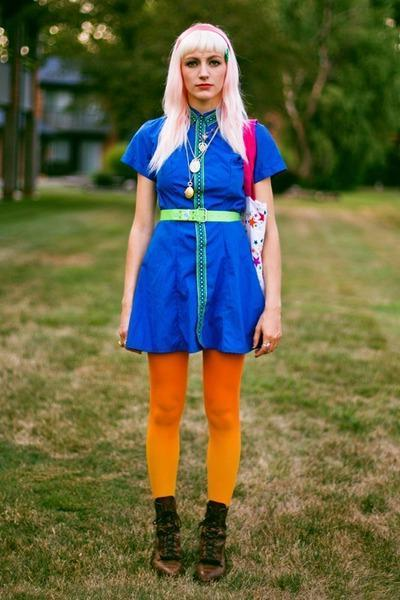dress: (114, 114, 290, 354)
